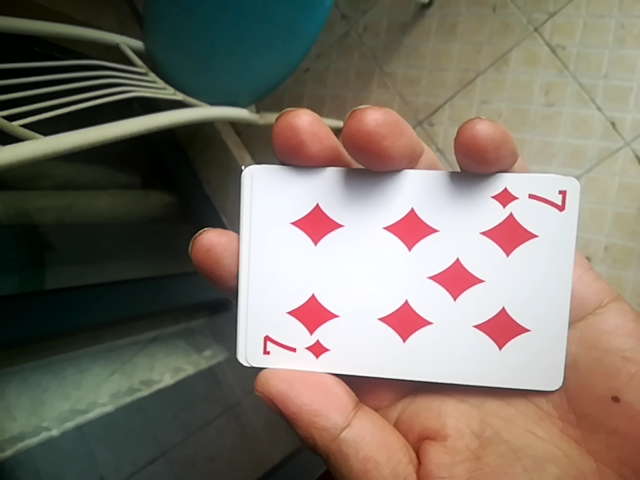fk 7: (220, 160, 589, 389)
